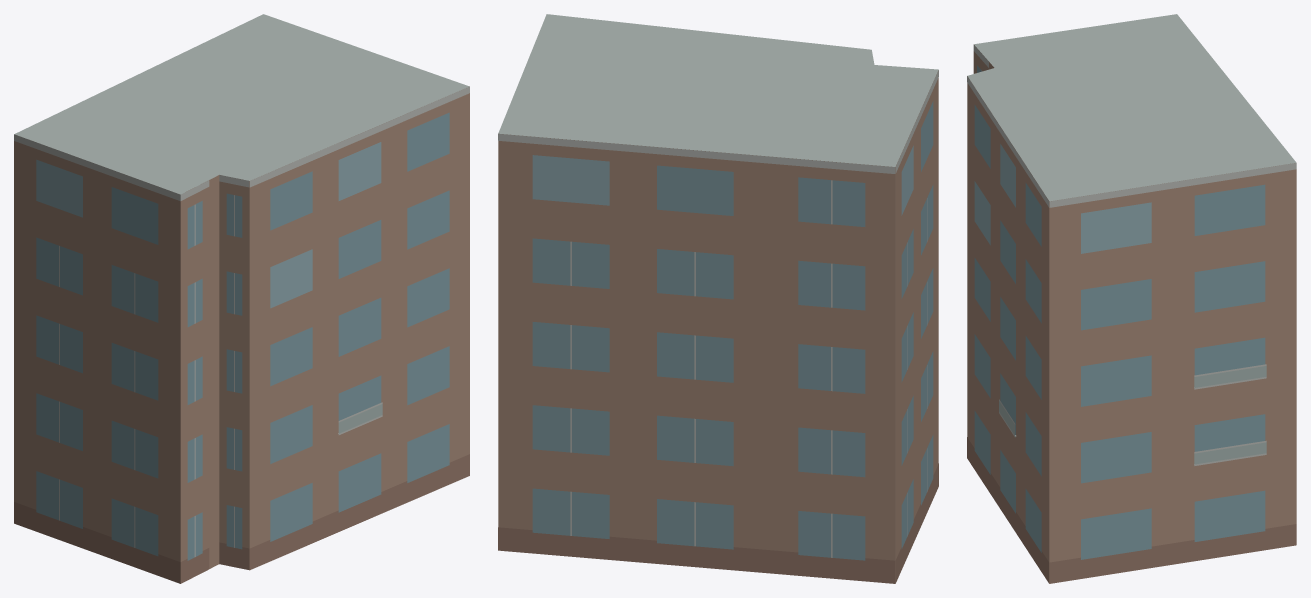
The model's file is survey-upis-33017087.glb.
3 renders of one model, left to right at view 1: azimuth 30°, elevation 25°; view 2: azimuth 150°, elevation 25°; view 3: azimuth 270°, elevation 25°, orthographic. The views are drawn at different scales.
Parts seen in each view (by area): view 1: survey-upis-33017087.tmp; view 2: survey-upis-33017087.tmp; view 3: survey-upis-33017087.tmp.
Boxes of the visible parts, x1=… form: survey-upis-33017087.tmp: x1=14, y1=14, x2=469, y2=583; survey-upis-33017087.tmp: x1=498, y1=14, x2=938, y2=583; survey-upis-33017087.tmp: x1=967, y1=14, x2=1296, y2=583.
Bounding box in the file's own units: 14.98 × 14.25 × 11.13.
